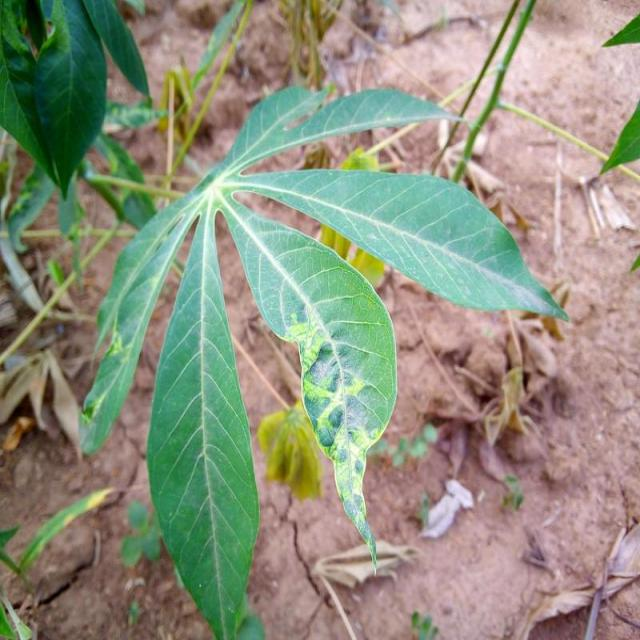Mosaico: (249, 269, 428, 581), (56, 306, 147, 440), (240, 398, 311, 528)
